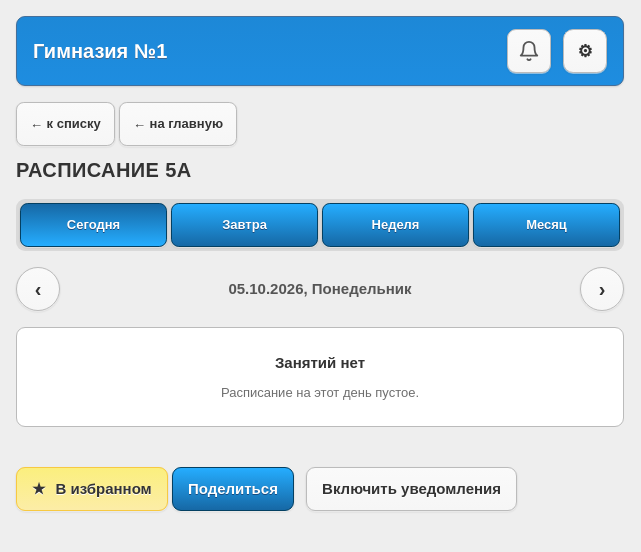
Test: App shell › notification bell › keeps the bell and the Schedule push control in sync
Note: Enable from the Schedule screen: the shared flag flips and the bell lights up.
Click the button "Включить уведомления": coordinates (412, 489) [306,467,517,511]
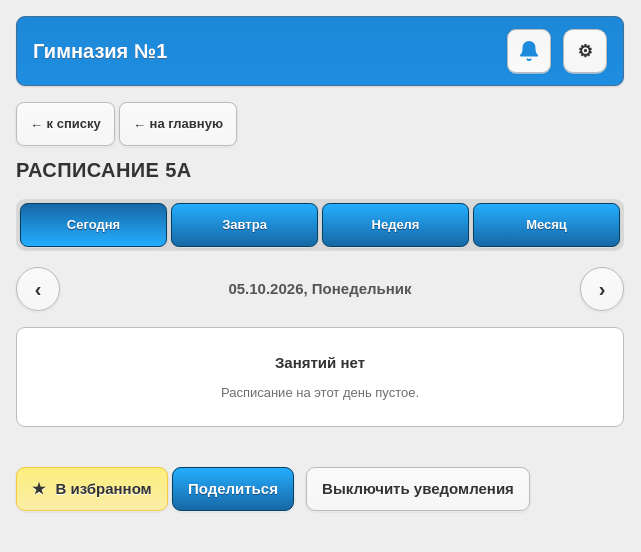
Now the button named "Уведомления" is pressed
Note: Turn off from the bell: the Schedule button returns to «Включить».
Click the button named "Уведомления": coordinates (529, 51) [507,29,551,73]
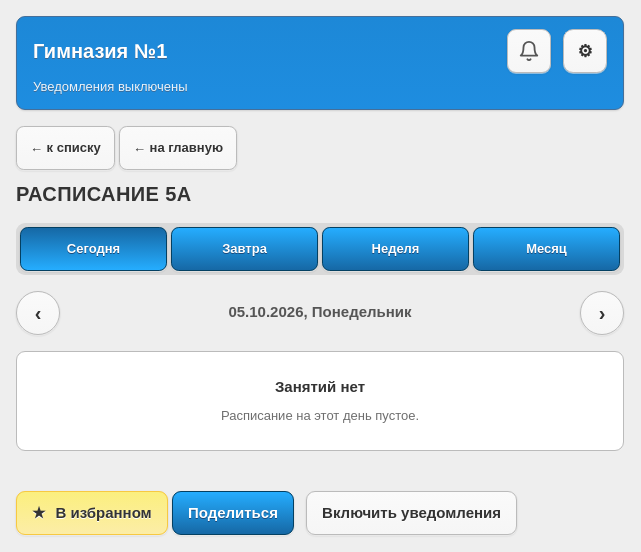
Now the button "Включить уведомления" is shown, box [306,490,517,534]
